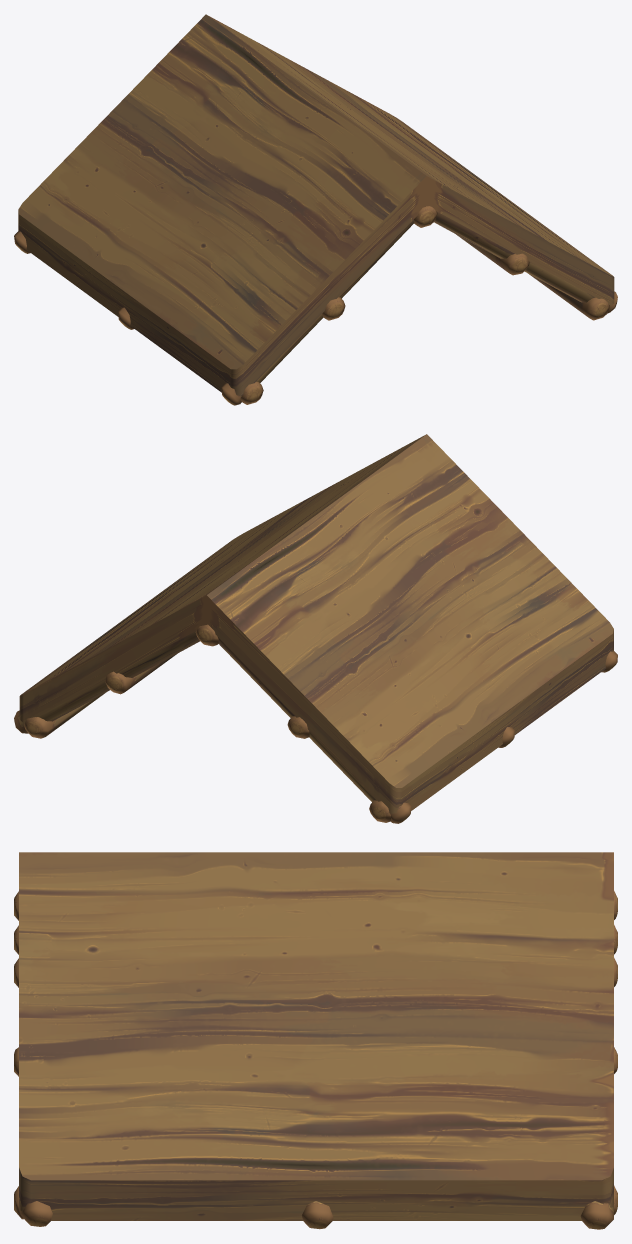
File: SM_MOD_roof_cap_open_frame_town.fbx
The picture shows the model from 3 angles, top to bottom: view 1: azimuth 30°, elevation 25°; view 2: azimuth 150°, elevation 25°; view 3: azimuth 270°, elevation 25°; orthographic projection. The views are drawn at different scales.
Visible parts, largest first — view 1: SM_MOD_roof_cap_open_frame_town_LOD0; view 2: SM_MOD_roof_cap_open_frame_town_LOD0; view 3: SM_MOD_roof_cap_open_frame_town_LOD0.
Boxes of the visible parts, bbox=[...] form: SM_MOD_roof_cap_open_frame_town_LOD0: bbox=[14, 14, 617, 405]; SM_MOD_roof_cap_open_frame_town_LOD0: bbox=[14, 434, 617, 823]; SM_MOD_roof_cap_open_frame_town_LOD0: bbox=[14, 852, 617, 1229].
Size of what is drawn, in the model's own units: 413 by 188 by 406.
